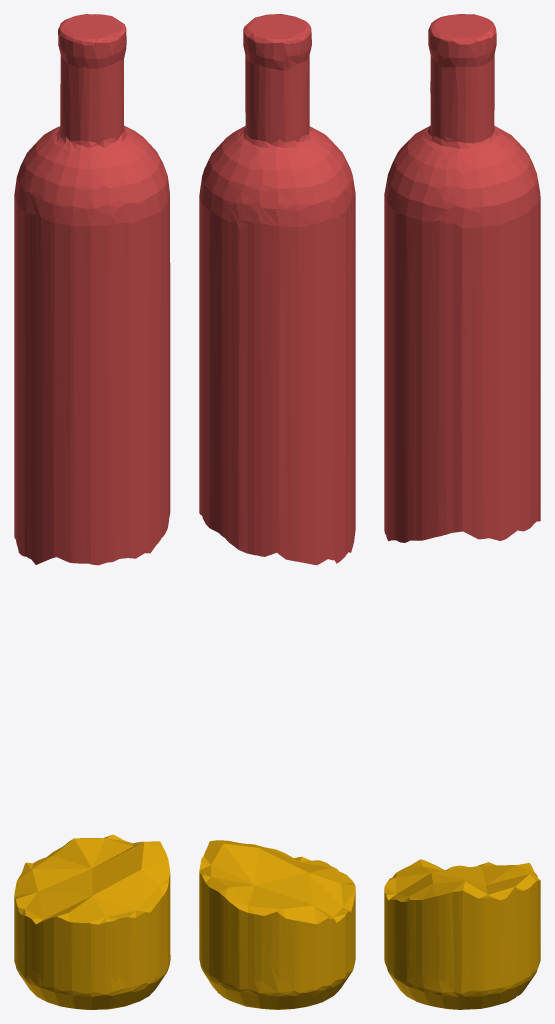
Rendered from fractured_29_2pcs_transformed.glb.
The picture shows the model from 3 angles, left to right: view 1: azimuth 30°, elevation 25°; view 2: azimuth 150°, elevation 25°; view 3: azimuth 270°, elevation 25°; orthographic projection.
Parts seen in each view (by area): view 1: piece_1.obj, piece_0.obj; view 2: piece_1.obj, piece_0.obj; view 3: piece_1.obj, piece_0.obj.
Boxes of the visible parts, <box> form: piece_1.obj: <box>14,14,170,565</box>; piece_0.obj: <box>14,834,170,1009</box>; piece_1.obj: <box>199,14,355,565</box>; piece_0.obj: <box>199,840,355,1009</box>; piece_1.obj: <box>384,14,540,542</box>; piece_0.obj: <box>384,859,540,1009</box>.
Size of the model in its own units: 0.237 by 1.6 by 0.2368.
